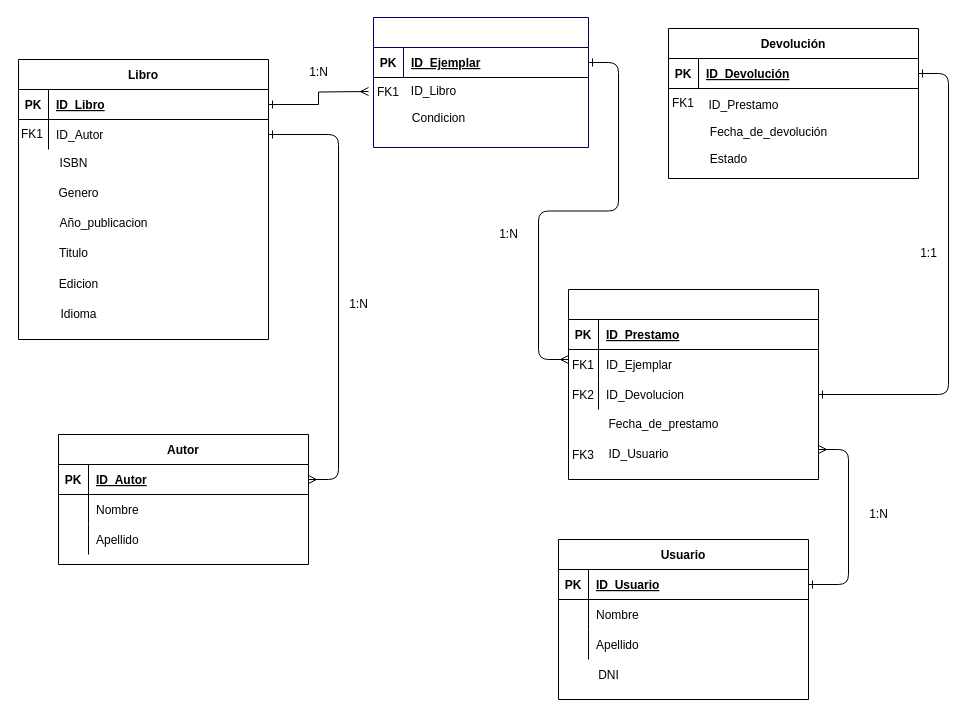
This 975x717 diagram has some shape labels left out. The box of each missing label's shape, as (x1, y1, x2, y2) in pixels:
Inventario: (372, 16, 588, 148)
Préstamo: (568, 288, 818, 480)
